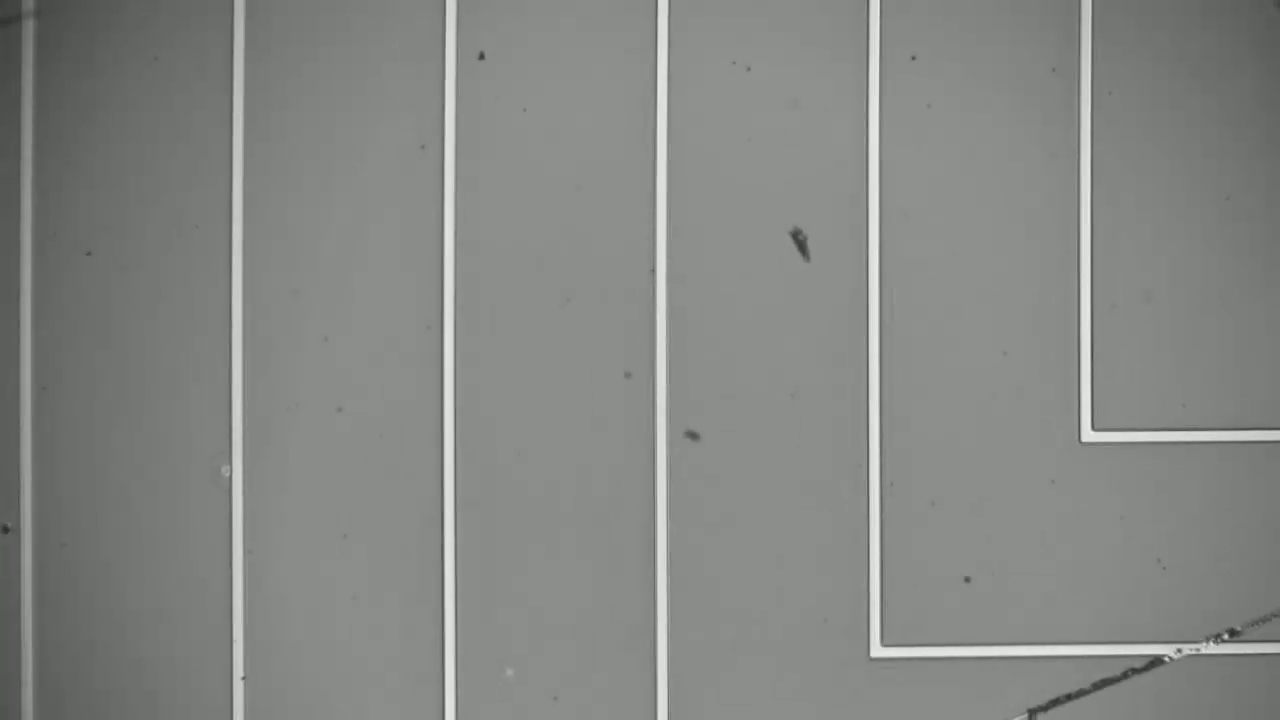scratch: (1026, 606, 1280, 708)
